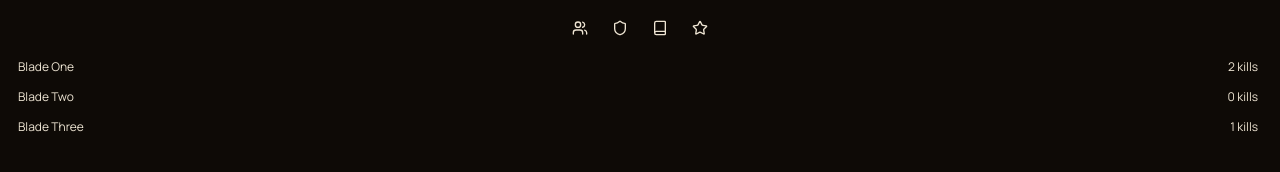
item rows: a henchmen group's mounts › words the switch for the whole group (all members when unnamed); a group's pet keeps its own
Click the button named "Equipment" at (620, 28), box 604,12 -> 636,44
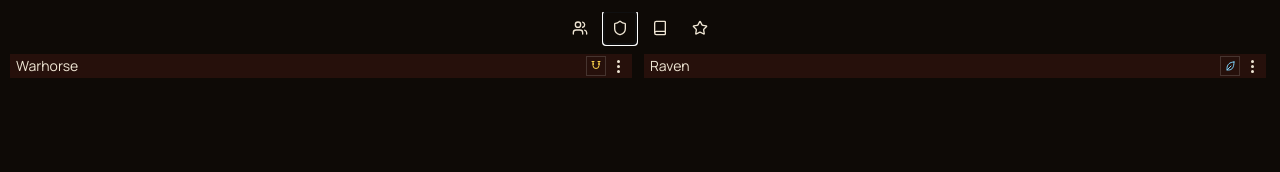
Expected: the button named "Raven: Keep as pet" is shown, 1220,56 -> 1240,76
